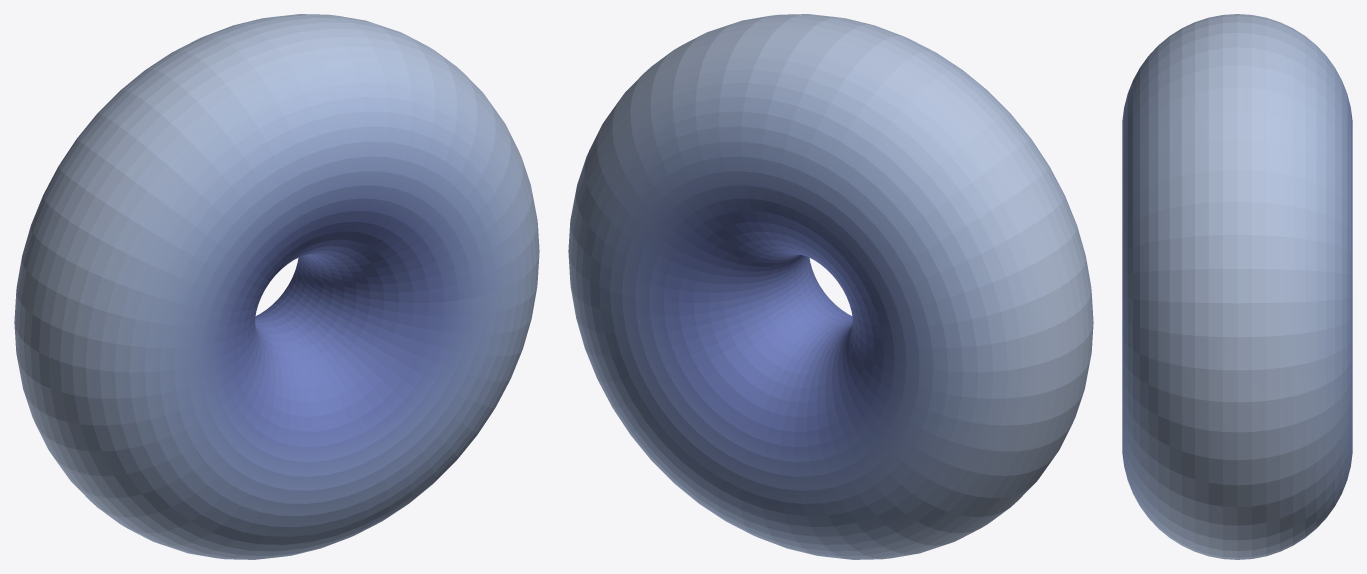
The picture shows the model from 3 angles, left to right: view 1: azimuth 30°, elevation 25°; view 2: azimuth 150°, elevation 25°; view 3: azimuth 270°, elevation 25°; orthographic projection. The views are drawn at different scales.
Parts seen in each view (by area): view 1: world; view 2: world; view 3: world.
Boxes of the visible parts, x1,y1,x2,y2 form: world: (14,14,539,559); world: (568,14,1093,559); world: (1122,14,1352,559).
Size of the model in its own units: 17.33 by 17.3 by 7.32.
